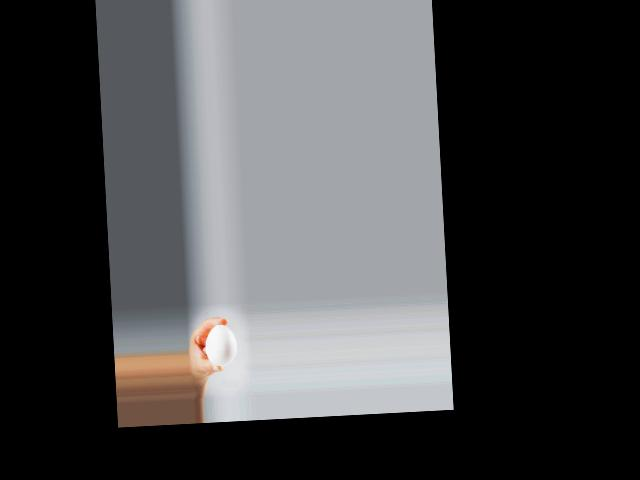egg: (205, 323, 237, 366)
